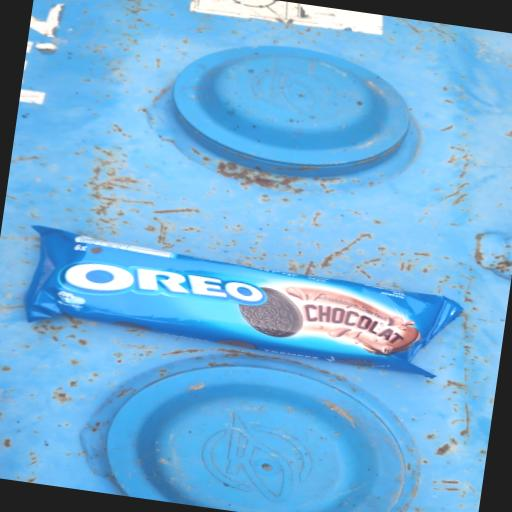oreo: (0, 186, 512, 460)
